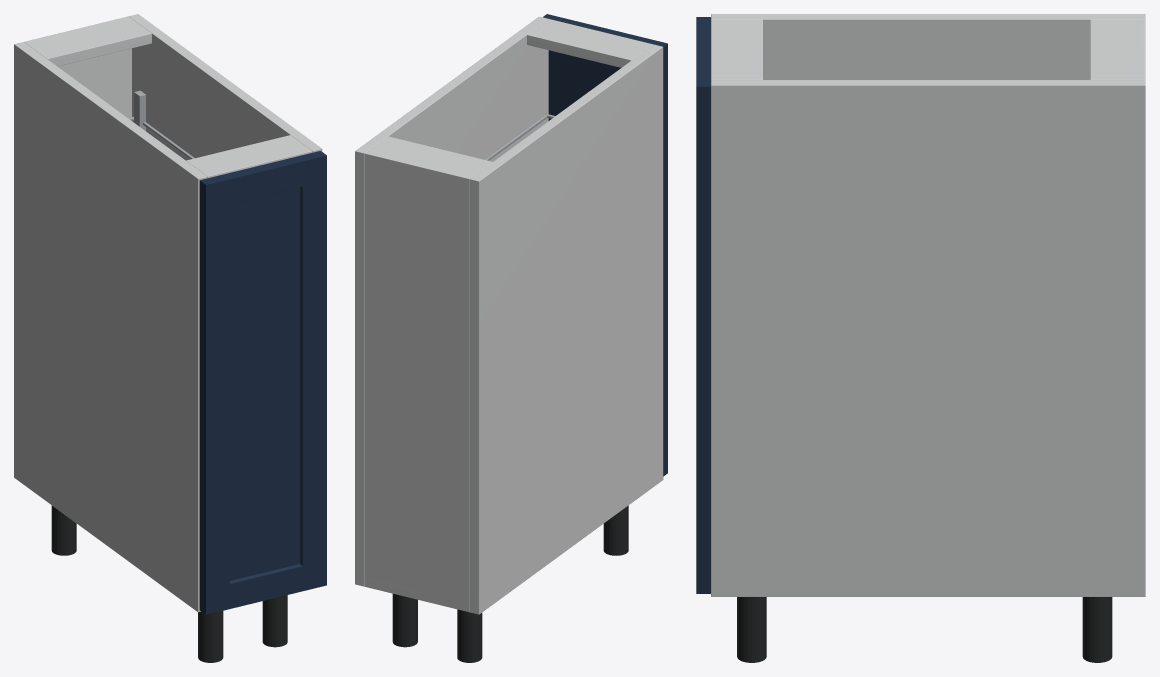
File: oppein-ply-bss-bsr09.glb
3 renders of one model, left to right at view 1: azimuth 30°, elevation 25°; view 2: azimuth 150°, elevation 25°; view 3: azimuth 270°, elevation 25°, orthographic. The views are drawn at different scales.
Visible parts, largest first — view 1: Cabinet side, Door, Cabinet side.001, Cabinet back, Top support rail, Top support rail.001, Adjustable foot.001, Adjustable foot.003, Adjustable foot; view 2: Cabinet side, Cabinet back, Cabinet side.001, Door, Top support rail.001, Top support rail, Adjustable foot, Adjustable foot.002, Adjustable foot.001, Cabinet bottom; view 3: Cabinet side.001, Cabinet side, Door, Top support rail.001, Top support rail, Adjustable foot.002, Adjustable foot.003.
Part boxes in pixels (x1=…): Cabinet side: x1=14, y1=42, x2=207, y2=612; Door: x1=199, y1=151, x2=326, y2=614; Cabinet side.001: x1=129, y1=14, x2=322, y2=160; Cabinet back: x1=24, y1=16, x2=131, y2=117; Top support rail: x1=26, y1=19, x2=151, y2=66; Top support rail.001: x1=186, y1=135, x2=312, y2=178; Adjustable foot.001: x1=198, y1=611, x2=223, y2=662; Adjustable foot.003: x1=262, y1=595, x2=287, y2=647; Adjustable foot: x1=51, y1=505, x2=76, y2=555; Cabinet side: x1=469, y1=44, x2=663, y2=614; Cabinet back: x1=365, y1=151, x2=472, y2=611; Cabinet side.001: x1=355, y1=16, x2=548, y2=586; Door: x1=543, y1=14, x2=667, y2=476; Top support rail.001: x1=527, y1=19, x2=652, y2=67; Top support rail: x1=369, y1=136, x2=492, y2=176; Adjustable foot: x1=457, y1=609, x2=482, y2=662; Adjustable foot.002: x1=392, y1=593, x2=417, y2=647; Adjustable foot.001: x1=603, y1=505, x2=628, y2=555; Cabinet bottom: x1=365, y1=577, x2=469, y2=612; Cabinet side.001: x1=711, y1=80, x2=1145, y2=596; Cabinet side: x1=711, y1=14, x2=1145, y2=79; Door: x1=696, y1=17, x2=710, y2=593; Top support rail.001: x1=711, y1=19, x2=762, y2=79; Top support rail: x1=1090, y1=19, x2=1141, y2=79; Adjustable foot.002: x1=1082, y1=597, x2=1112, y2=662; Adjustable foot.003: x1=737, y1=597, x2=766, y2=662.
Size of the model in its own units: 0.2286 by 0.8763 by 0.6064.
